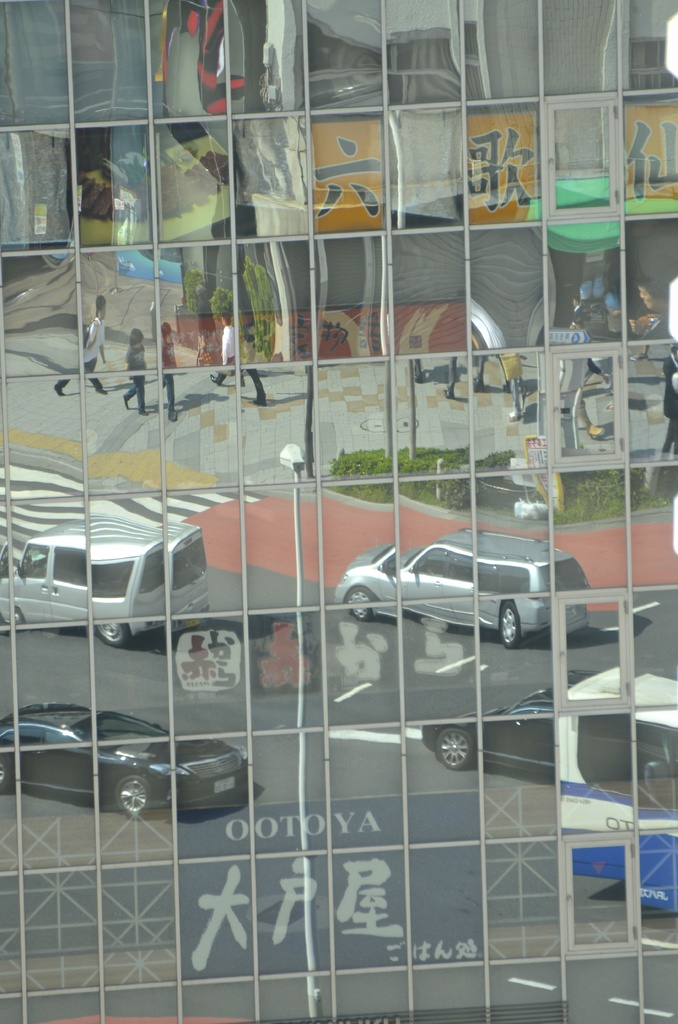Car: (322, 546, 596, 659)
